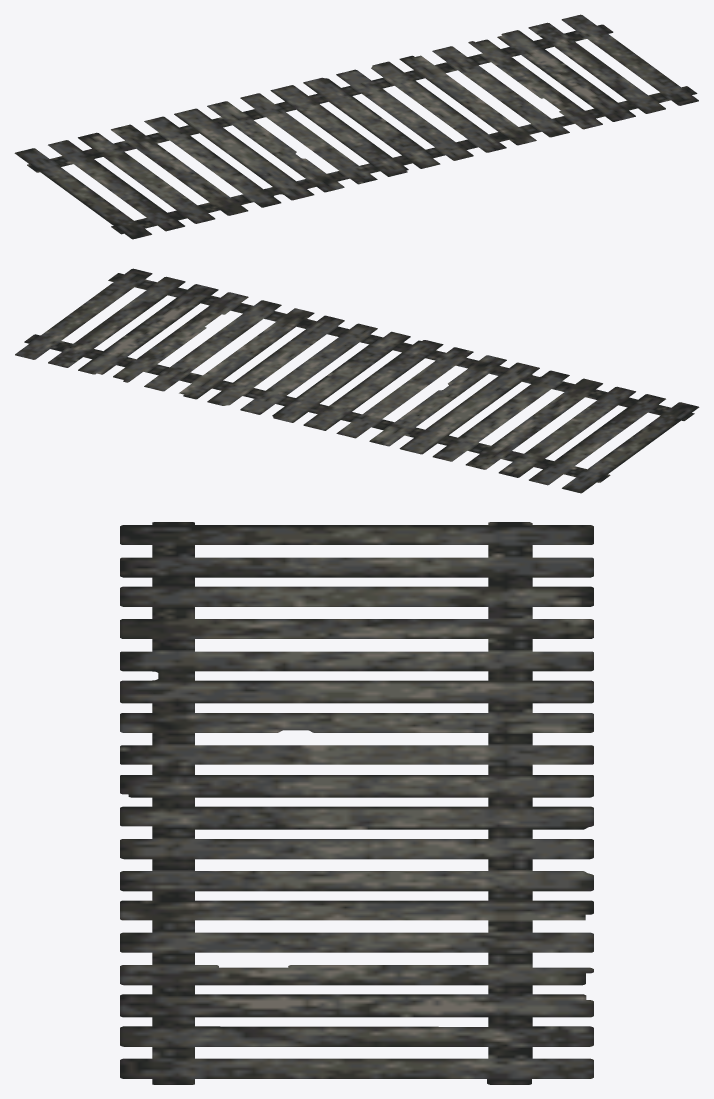
The model's file is SM_EC_Fence_Card_02.fbx.
3 renders of one model, top to bottom at view 1: azimuth 30°, elevation 25°; view 2: azimuth 150°, elevation 25°; view 3: azimuth 270°, elevation 25°, orthographic. The views are drawn at different scales.
Visible parts, largest first — view 1: SM_EC_Fence_Card_02; view 2: SM_EC_Fence_Card_02; view 3: SM_EC_Fence_Card_02.
Part boxes in pixels (box(x1,y1,x2,y2)): SM_EC_Fence_Card_02: box(14, 14, 698, 239); SM_EC_Fence_Card_02: box(15, 268, 699, 493); SM_EC_Fence_Card_02: box(120, 522, 593, 1084).
Bounding box in the file's own units: 3 × 1.07 × 0.
